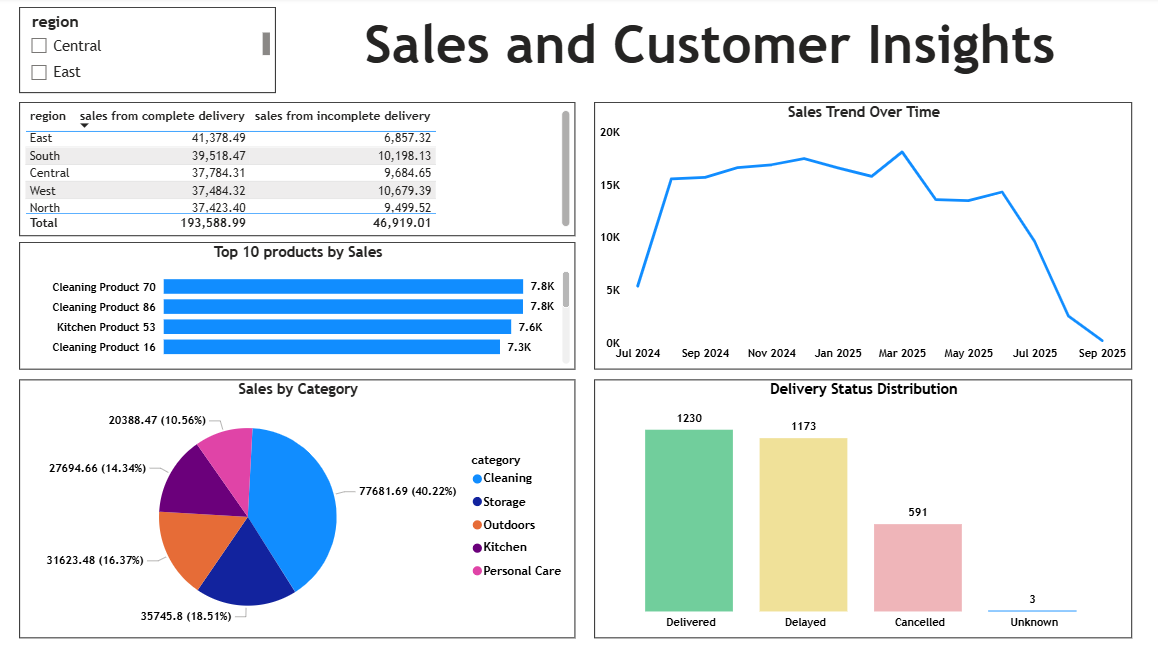

What the dashboard file says about the page in this screenshot:
{"tool":"powerbi","page":{"name":"Page 1","canvas":[1280,720],"ordinal":0},"visuals":[{"type":"pieChart","title":"Sales by Category","fields":{"Category":["product_info.category"],"Y":["Sales_data.Total Revenue"]},"box":[28.8,419.9,610.6,284],"z":0},{"type":"lineChart","title":"Sales Trend Over Time","fields":{"Y":["Sales_data.sales"],"Category":["Sales_data.order_date.Variation.Date Hierarchy.Year","Sales_data.order_date.Variation.Date Hierarchy.Quarter","Sales_data.order_date.Variation.Date Hierarchy.Month"]},"box":[660,115.3,590.1,293.7],"z":1000},{"type":"slicer","fields":{"Values":["Sales_data.transaction region"]},"box":[28.8,11,281.3,94.7],"z":2000},{"type":"textbox","box":[333.4,12.3,907,81],"z":3000},{"type":"clusteredBarChart","title":"Top 10 products by Sales","fields":{"Category":["product_info.product_name"],"Y":["Sales_data.Total Revenue"]},"box":[28.8,269,610.6,140],"z":4000},{"type":"columnChart","title":"Delivery Status Distribution","fields":{"Category":["Sales_data.delivery_status"],"Y":["CountNonNull(Sales_data.delivery_status)"]},"box":[660,419.9,590.1,284],"z":5000},{"type":"tableEx","fields":{"Values":["Sales_data.region","Sales_data.Sales","Sales_data.lost revenue"]},"box":[28.8,115.3,610.6,146.8],"z":7000}]}

Visuals, with their boxes in screenshot pixels (x1, y1, x2, y2), scaled from the page's 1280x720 canvas onto the 1158x653 screenshot:
"Sales by Category" pieChart: bbox=(26, 381, 578, 638)
"Sales Trend Over Time" lineChart: bbox=(597, 105, 1131, 371)
slicer - Sales_data.transaction region: bbox=(26, 10, 281, 96)
textbox: bbox=(302, 11, 1122, 85)
"Top 10 products by Sales" clusteredBarChart: bbox=(26, 244, 578, 371)
"Delivery Status Distribution" columnChart: bbox=(597, 381, 1131, 638)
tableEx - Sales_data.region x Sales_data.Sales: bbox=(26, 105, 578, 238)
